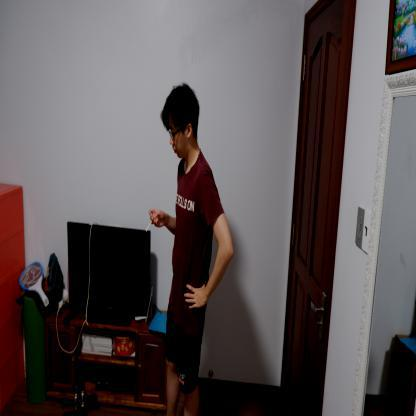cigarette: (145, 219, 153, 234)
person: (152, 83, 237, 415)
